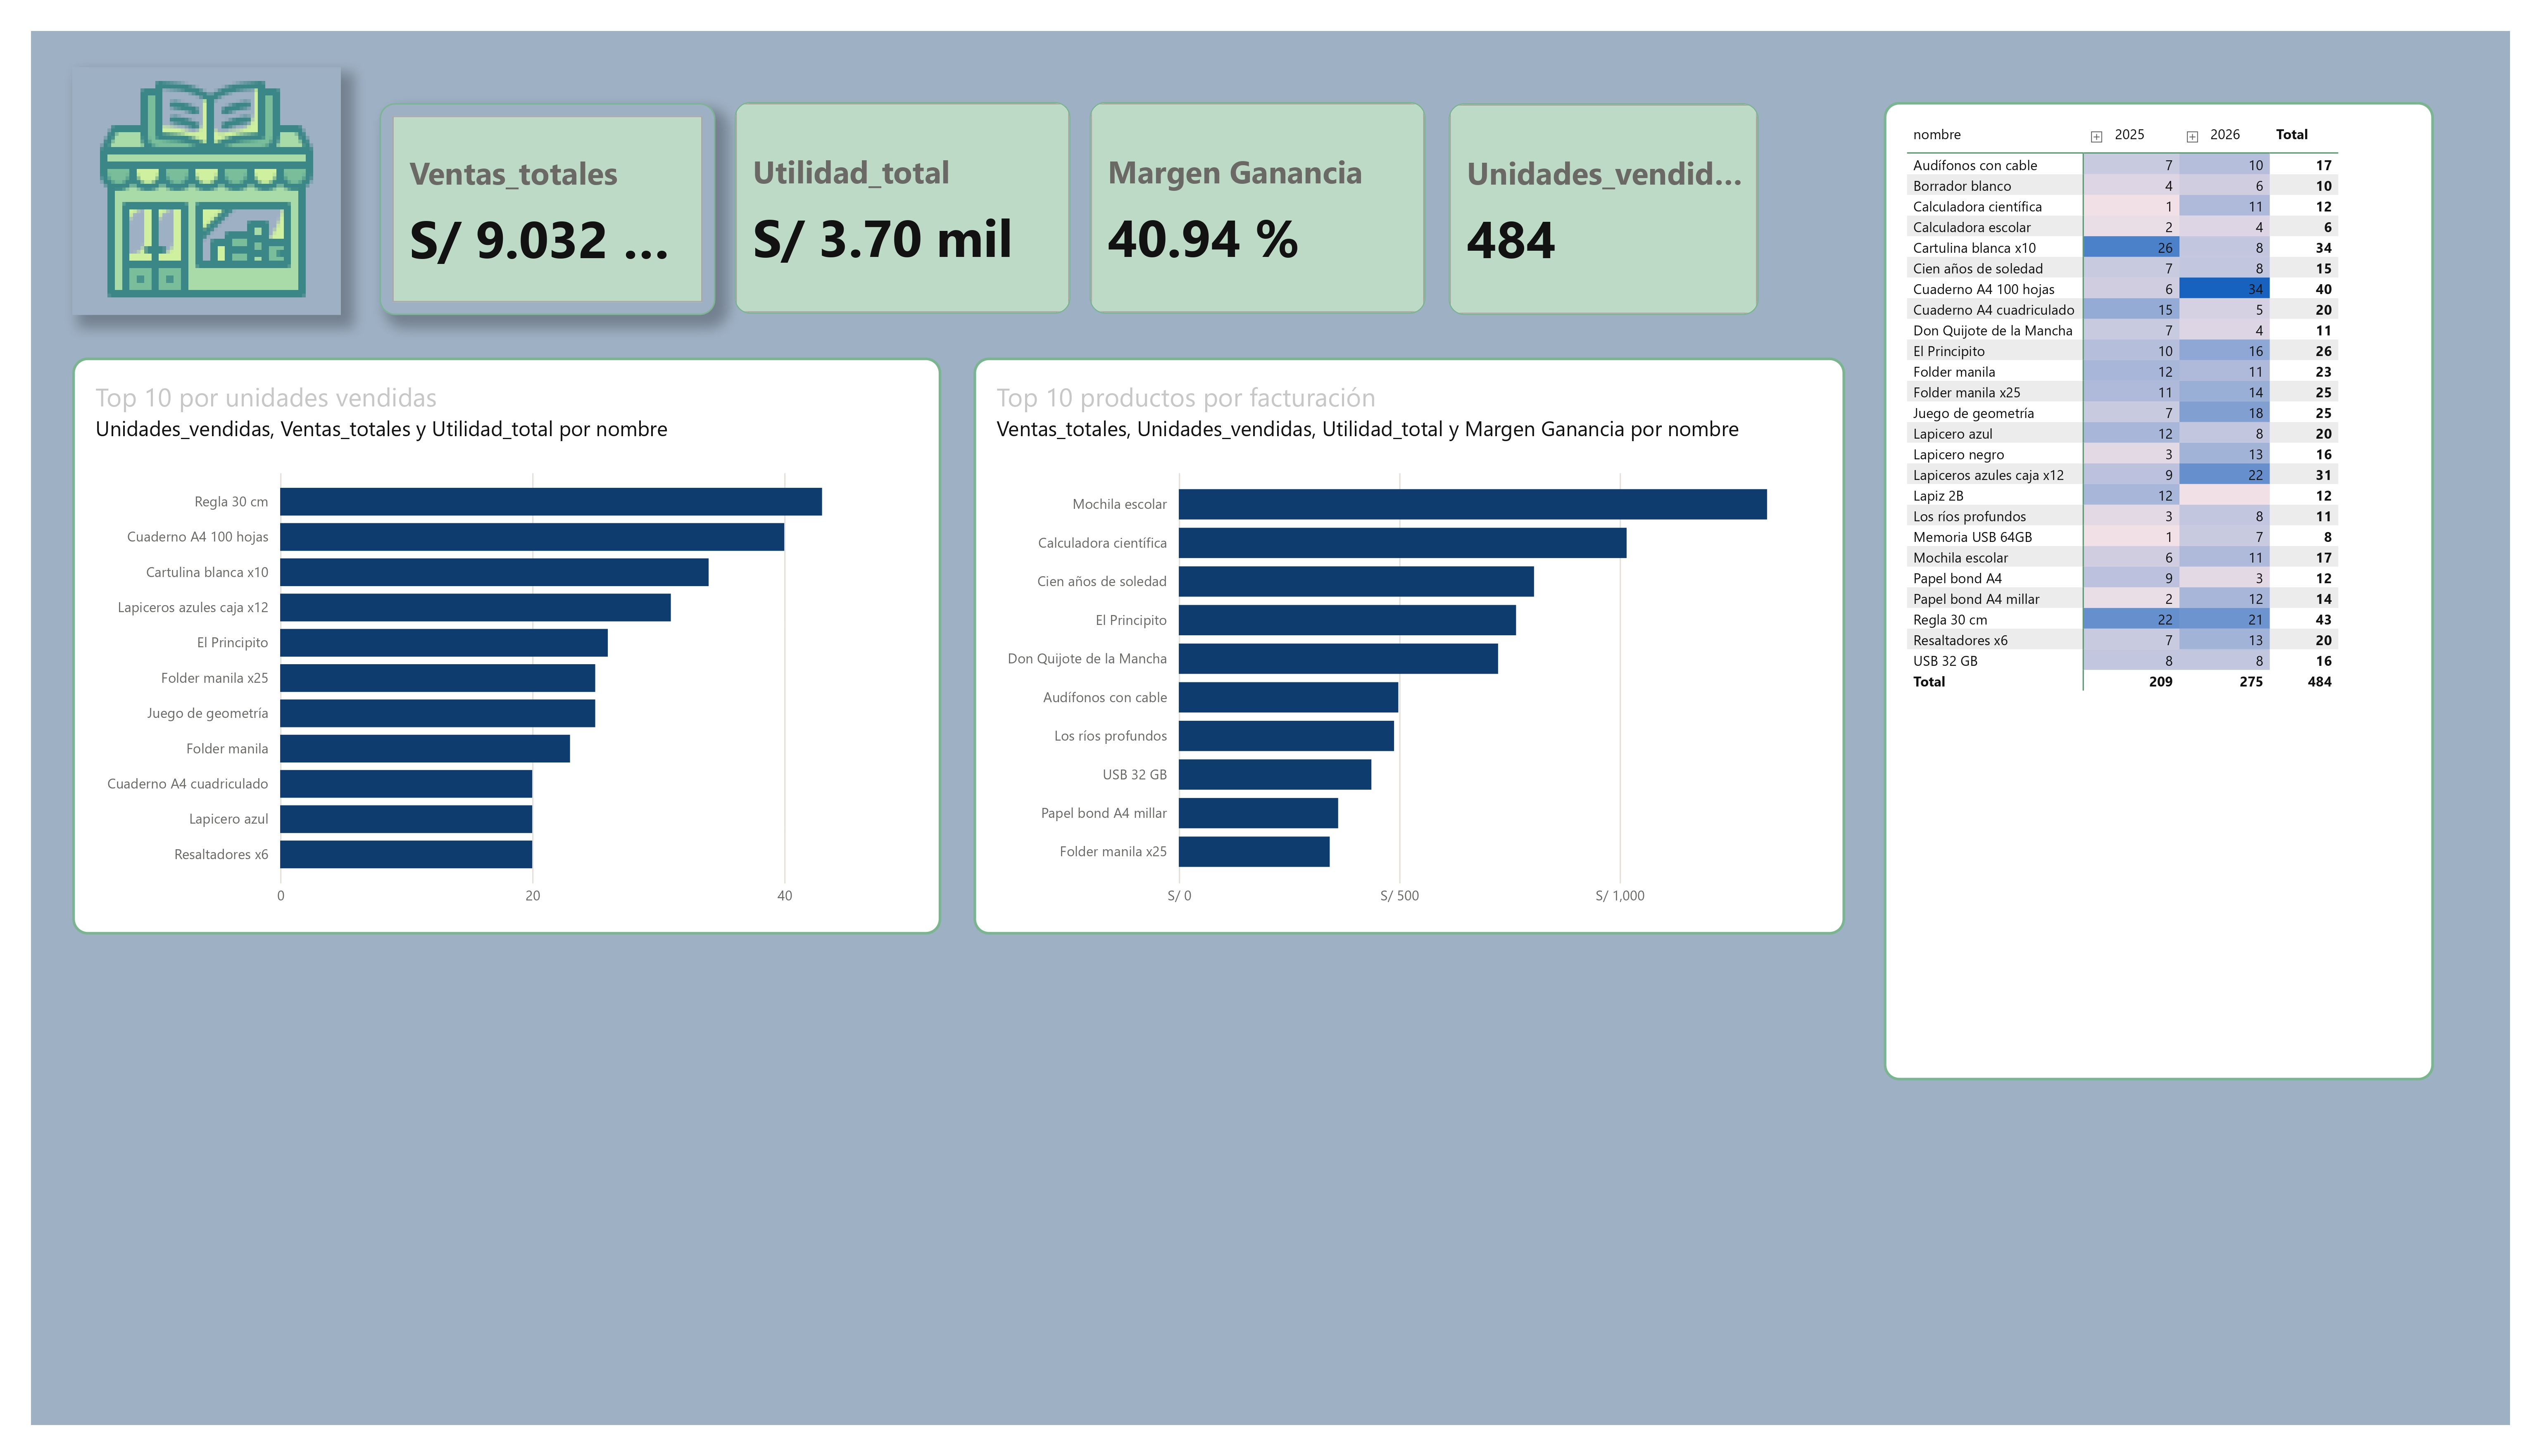

The page's visual inventory and layout, read from the dashboard file:
{"tool":"powerbi","page":{"name":"ANALISIS_PRODUCTO","canvas":[1920,1080],"ordinal":4},"visuals":[{"type":"clusteredBarChart","title":"Top 10 productos por facturación","fields":{"Category":["dim_producto.nombre"],"Y":["fac_ventas.Ventas_totales"]},"box":[730,252.5,675,447.5],"z":0},{"type":"pivotTable","fields":{"Columns":["dim_tiempo.fecha.Variación.Jerarquía de fechas.Año","dim_tiempo.fecha.Variación.Jerarquía de fechas.Mes"],"Rows":["dim_producto.nombre"],"Values":["fac_ventas.Unidades_vendidas"]},"box":[1435,55,426,758],"z":1000},{"type":"image","box":[31.7,28.3,208.3,191.7],"z":2000},{"type":"clusteredBarChart","title":"Top 10 por unidades vendidas","fields":{"Category":["dim_producto.nombre"],"Y":["fac_ventas.Unidades_vendidas"]},"box":[31.7,253.3,673.3,446.7],"z":3000},{"type":"cardVisual","fields":{"Data":["fac_ventas.Ventas_totales"]},"box":[270,56,260,164],"z":5000},{"type":"cardVisual","fields":{"Data":["fac_ventas.Utilidad_total"]},"box":[545,55,260,164],"z":6000},{"type":"cardVisual","fields":{"Data":["fac_ventas.Margen Ganancia"]},"box":[820,55,260,164],"z":7000},{"type":"cardVisual","fields":{"Data":["fac_ventas.Unidades_vendidas"]},"box":[1098,56,240,164],"z":8000}]}

Visuals, with their boxes on the page's 1920x1080 design canvas (x1, y1, x2, y2). These are canvas units, not pixel positions in the 2541x1456 screenshot, which may show the page scaled, cropped or inside an application window:
"Top 10 productos por facturación" clusteredBarChart: <region>730, 252, 1405, 700</region>
pivotTable - dim_tiempo.fecha.Variación.Jerarquía de fechas.Año x dim_tiempo.fecha.Variación.Jerarquía de fechas.Mes: <region>1435, 55, 1861, 813</region>
image: <region>32, 28, 240, 220</region>
"Top 10 por unidades vendidas" clusteredBarChart: <region>32, 253, 705, 700</region>
cardVisual - fac_ventas.Ventas_totales: <region>270, 56, 530, 220</region>
cardVisual - fac_ventas.Utilidad_total: <region>545, 55, 805, 219</region>
cardVisual - fac_ventas.Margen Ganancia: <region>820, 55, 1080, 219</region>
cardVisual - fac_ventas.Unidades_vendidas: <region>1098, 56, 1338, 220</region>
